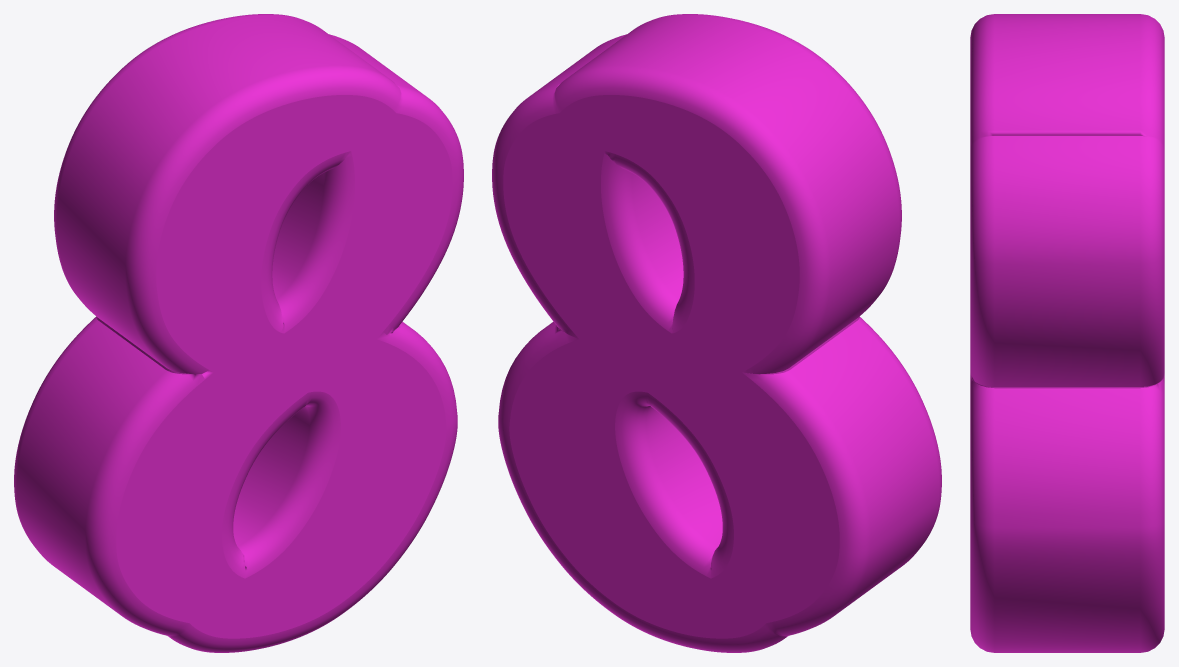
3 views of the same model, side by side, from view 1: azimuth 30°, elevation 25°; view 2: azimuth 150°, elevation 25°; view 3: azimuth 270°, elevation 25° (orthographic). The views are drawn at different scales.
Parts seen in each view (by area): view 1: Text; view 2: Text; view 3: Text.
Part boxes in pixels (left/top/right/bottom): Text: left=14, top=14, right=463, bottom=652; Text: left=492, top=14, right=941, bottom=652; Text: left=970, top=14, right=1164, bottom=652.
Bounding box in the file's own units: 0.3818 × 0.5513 × 0.16.
